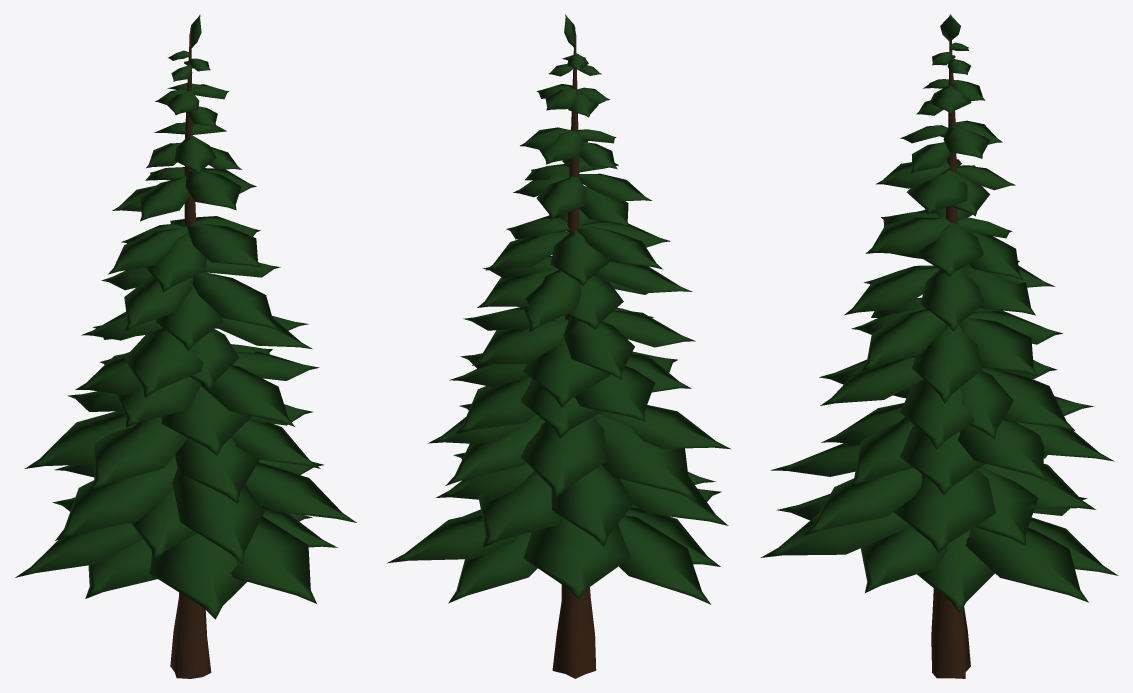
The model's file is survival_pine.glb.
3 views of the same model, side by side, from view 1: azimuth 30°, elevation 25°; view 2: azimuth 150°, elevation 25°; view 3: azimuth 270°, elevation 25° (orthographic).
Visible parts, largest first — view 1: PineCanopy, PineTrunk; view 2: PineCanopy, PineTrunk; view 3: PineCanopy, PineTrunk.
Part boxes in pixels (<box>): PineCanopy: <box>15,14,356,619</box>; PineTrunk: <box>170,28,211,678</box>; PineCanopy: <box>387,14,731,604</box>; PineTrunk: <box>552,27,596,678</box>; PineCanopy: <box>760,14,1118,613</box>; PineTrunk: <box>931,40,970,678</box>.
Bounding box in the file's own units: 5.83 × 12.8 × 6.29.
